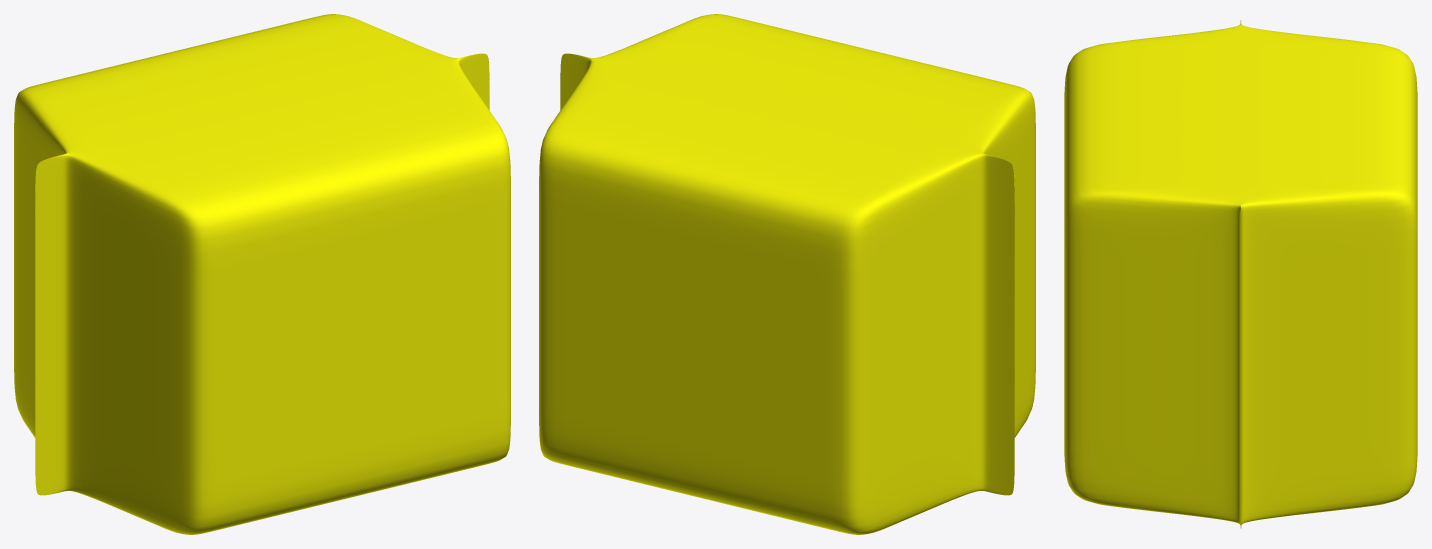
File: item-goobiebar.glb
The picture shows the model from 3 angles, left to right: view 1: azimuth 30°, elevation 25°; view 2: azimuth 150°, elevation 25°; view 3: azimuth 270°, elevation 25°; orthographic projection. The views are drawn at different scales.
Size of the model in its own units: 0.0281 by 0.0199 by 0.02.
